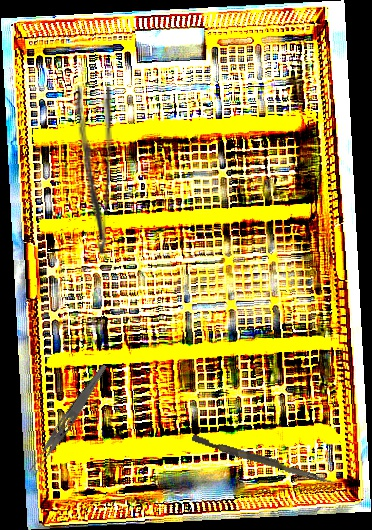Dressing Forceps: (26, 360, 110, 478), (69, 85, 114, 256)
Pusher: (190, 434, 336, 486)
